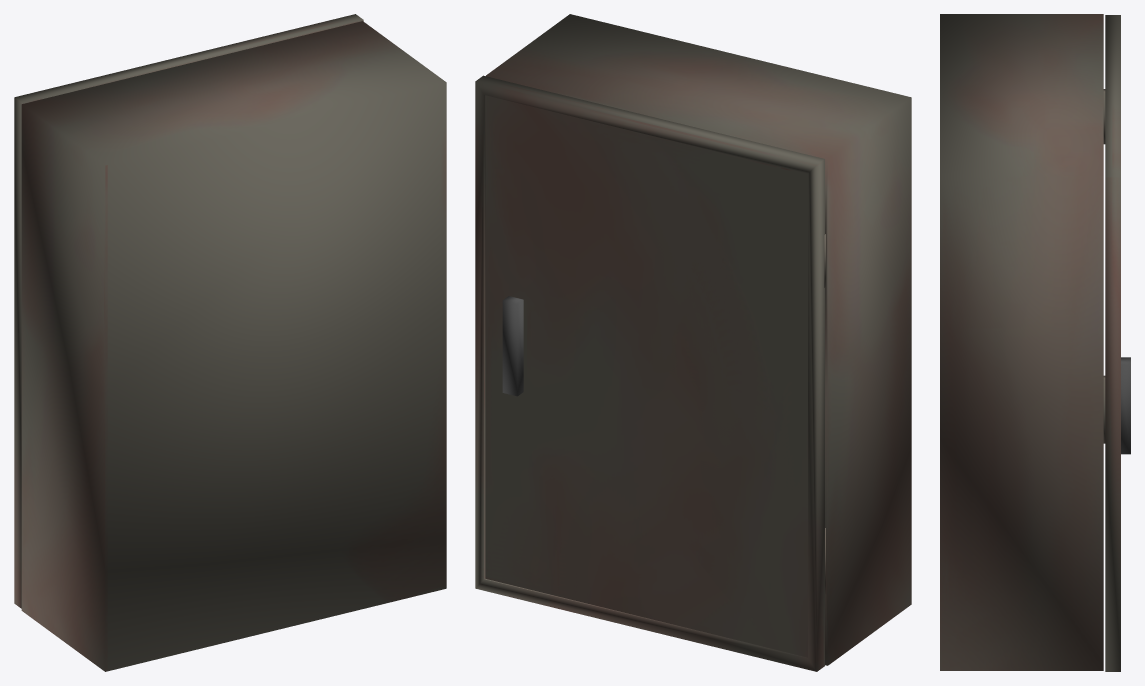
Rendered from LightBox.fbx.
3 renders of one model, left to right at view 1: azimuth 30°, elevation 25°; view 2: azimuth 150°, elevation 25°; view 3: azimuth 270°, elevation 25°, orthographic. The views are drawn at different scales.
Visible parts, largest first — view 1: LightBox, PanelDoor; view 2: PanelDoor, LightBox; view 3: LightBox, PanelDoor.
Part boxes in pixels (x1,y1,x2,y2): LightBox: (21, 21, 446, 671); PanelDoor: (14, 14, 363, 608); PanelDoor: (475, 75, 824, 671); LightBox: (486, 14, 911, 665); LightBox: (940, 14, 1105, 670); PanelDoor: (1105, 15, 1130, 671).
Size of the model in its own units: 45.04 by 63.52 by 22.23.
